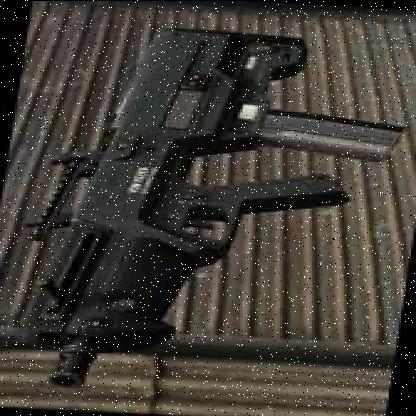rifle: (8, 17, 414, 398)
